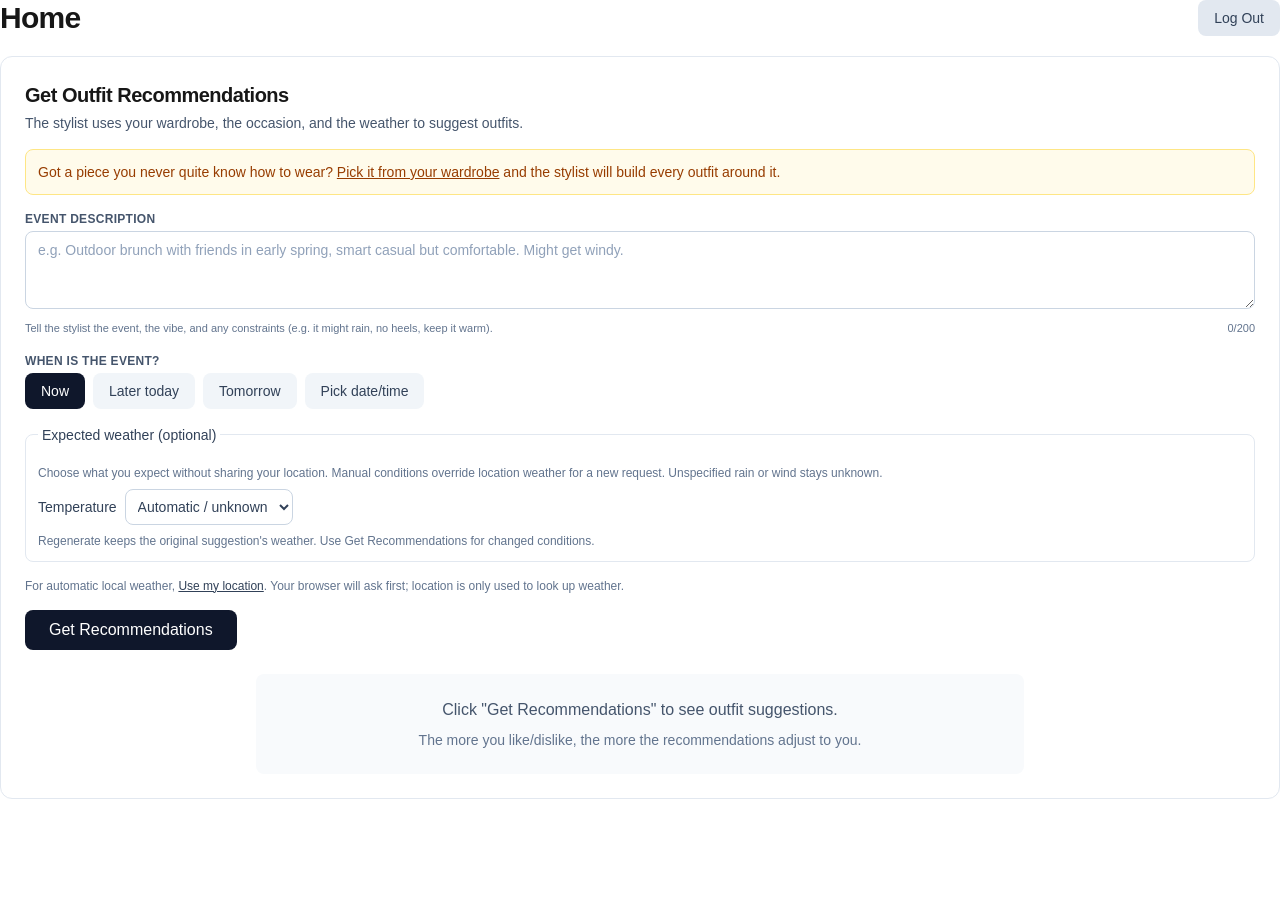
Test case: dashboard — an unreadable 200 is reported, not silently blanked › a normal render is unaffected
The image size is (1280, 900).
Type "class on campus" into the text box with placeholder "Outdoor brunch with friends" at (640, 270), box [25,231,1255,309]
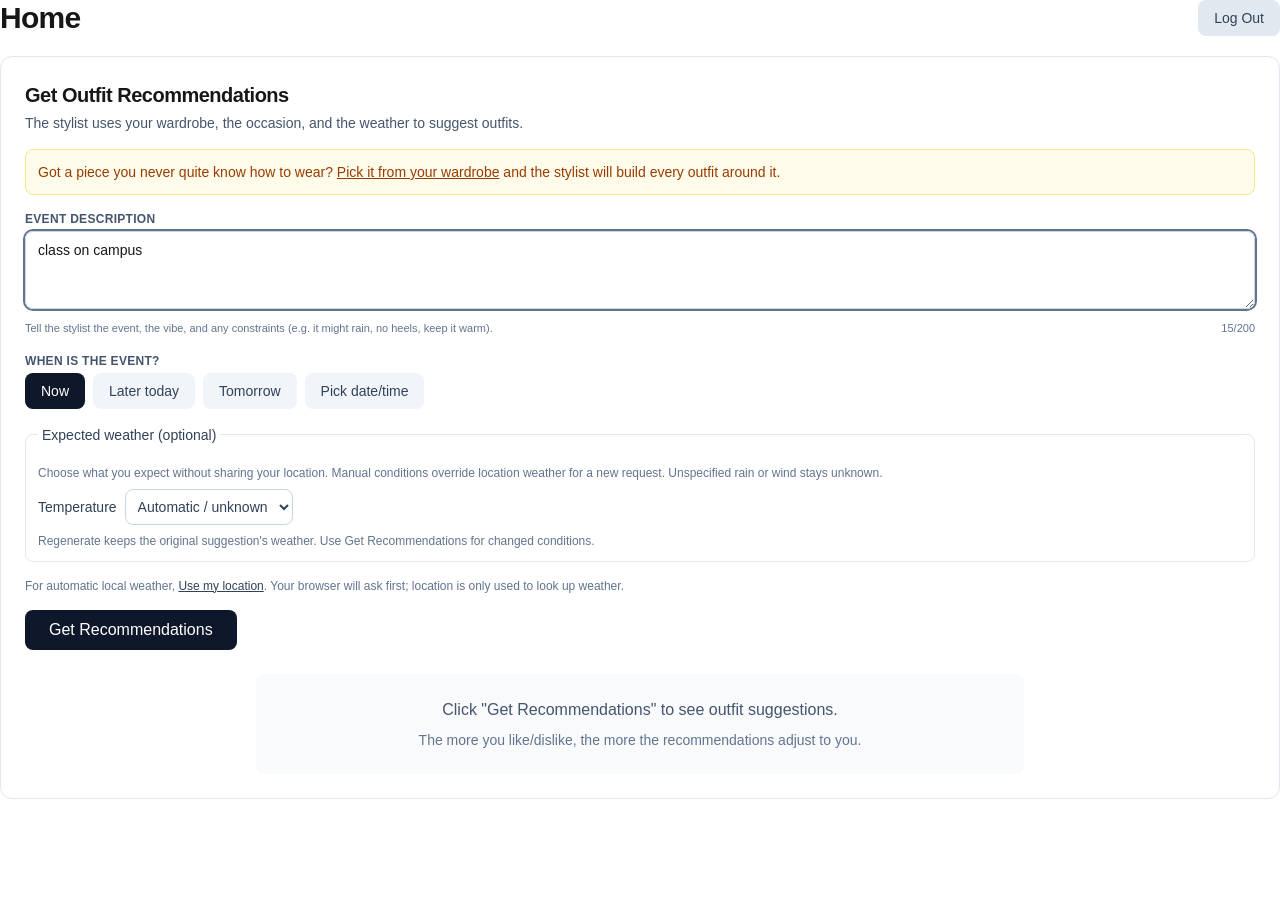
Click the button "Get Recommendations" at (131, 630), box [25,610,237,650]
(page scrolled)
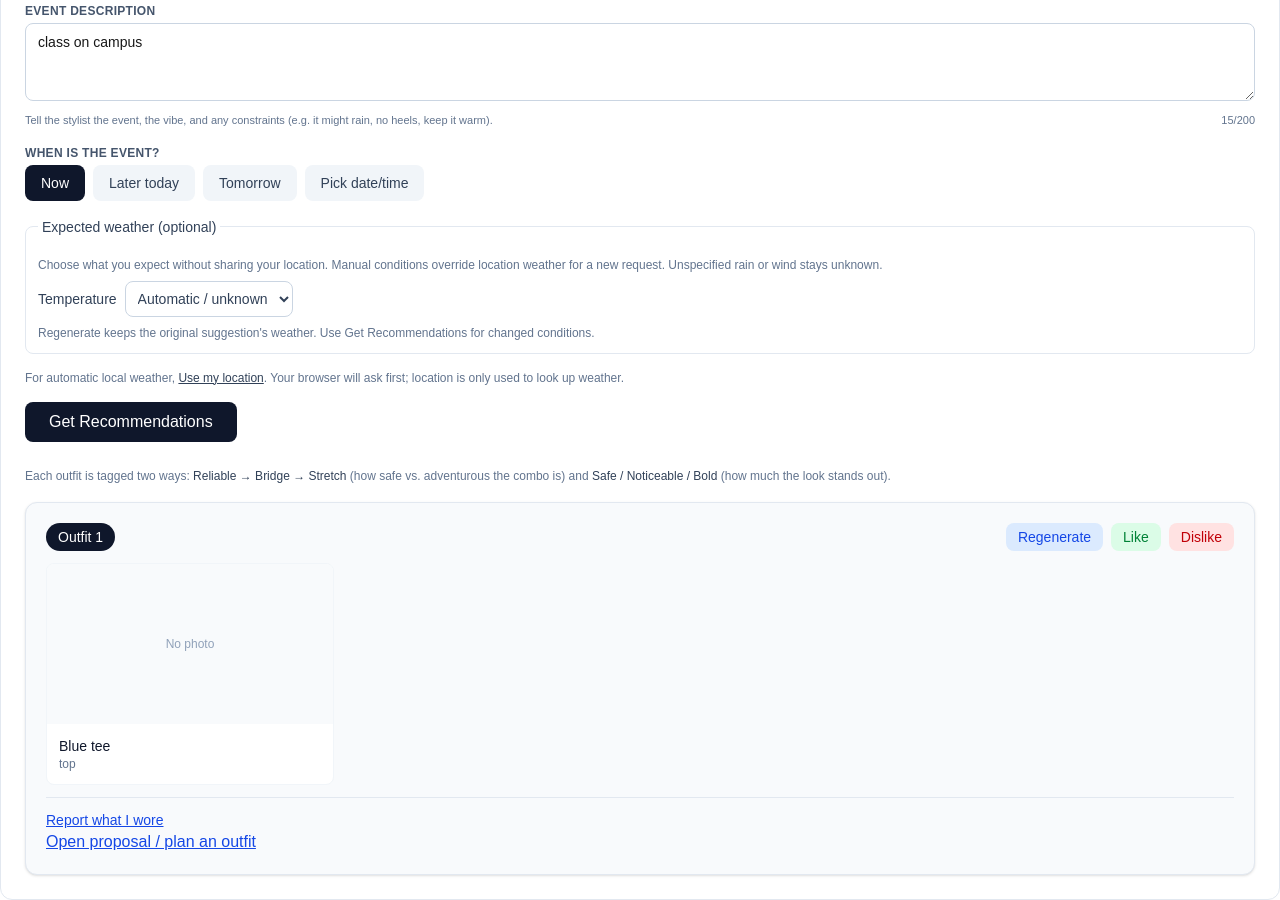
Expected: the text "Blue tee" is shown, [59,738,110,754]
